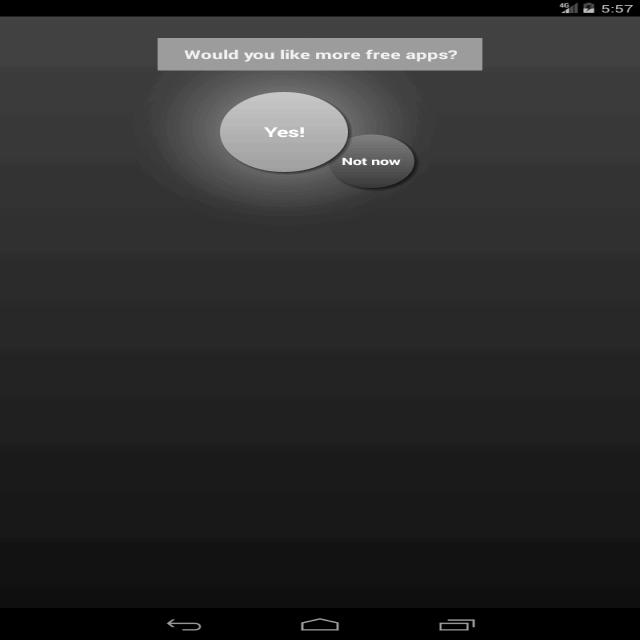Button: (150, 34, 489, 76)
ImageButton: (217, 92, 418, 194)
